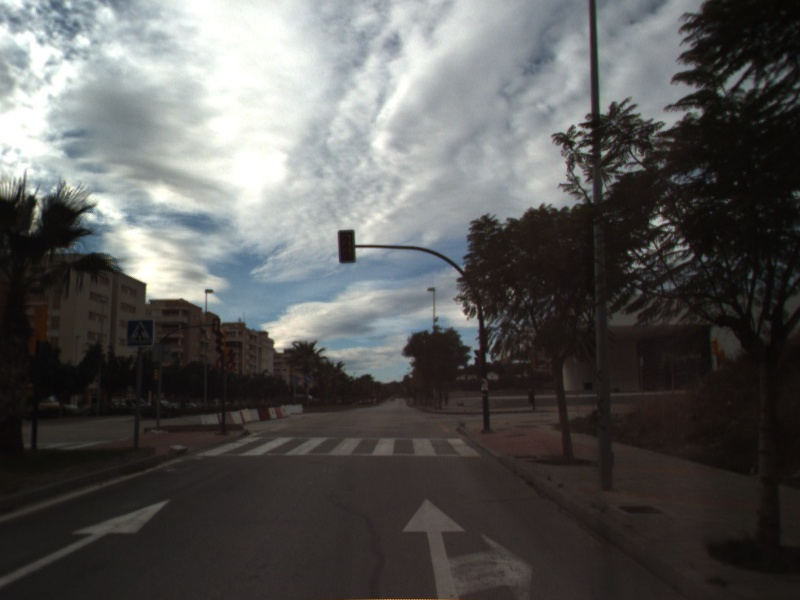STRAIGHT: (1, 498, 172, 589)
STRAIGHT_RIGHT: (399, 496, 536, 600)
